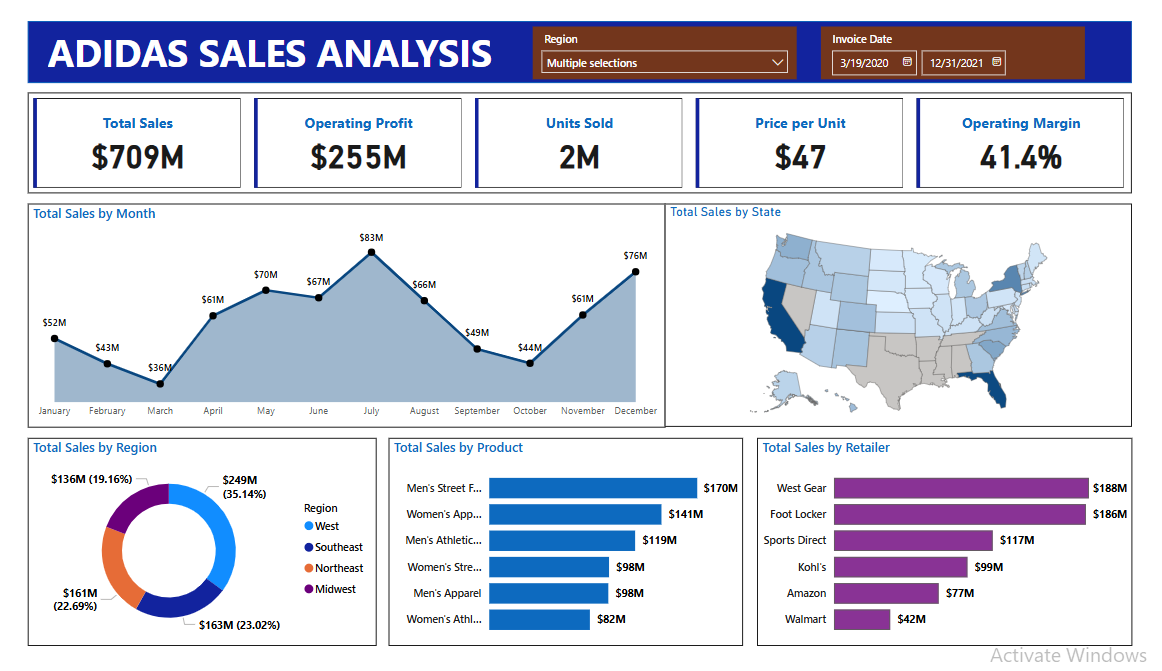

This screenshot's page, from the dashboard's own definition file:
{"tool":"powerbi","page":{"name":"Page 1","canvas":[1280,720],"ordinal":0},"visuals":[{"type":"shape","box":[10.3,0,1254.9,70.5],"z":0},{"type":"textbox","box":[27.9,0,539.3,70.5],"z":1000},{"type":"cardVisual","fields":{"Data":["Sum(Data Sales Adidas.Total Sales)","Sum(Data Sales Adidas.Operating Profit)","Sum(Data Sales Adidas.Units Sold)","Avg(Data Sales Adidas.Price per Unit)","Avg(Data Sales Adidas.Operating Margin)"]},"box":[10.3,80.8,1254.9,114.6],"z":2000},{"type":"areaChart","title":"Total Sales by Month","fields":{"Category":["Data Sales Adidas.Invoice Date.Variation.Date Hierarchy.Month"],"Y":["Sum(Data Sales Adidas.Total Sales)"]},"box":[10.3,207.2,724.4,254.2],"z":3000},{"type":"donutChart","title":" Total Sales by Region","fields":{"Category":["Data Sales Adidas.Region"],"Y":["Sum(Data Sales Adidas.Total Sales)"]},"box":[10.3,473.1,396.7,236.6],"z":4000},{"type":"barChart","title":" Total Sales by Product","fields":{"Category":["Data Sales Adidas.Product"],"Y":["Sum(Data Sales Adidas.Total Sales)"]},"box":[420.2,473.1,402.6,236.6],"z":5000},{"type":"barChart","title":" Total Sales by Retailer","fields":{"Y":["Sum(Data Sales Adidas.Total Sales)"],"Category":["Data Sales Adidas.Retailer"]},"box":[839,473.1,426.1,236.6],"z":6000},{"type":"shapeMap","title":"Total Sales by State","fields":{"Category":["Data Sales Adidas.State"],"Value":["Sum(Data Sales Adidas.Total Sales)"]},"box":[734,207,531,254],"z":7000},{"type":"slicer","fields":{"Values":["Data Sales Adidas.Region"]},"box":[584.3,5.7,300,60],"z":8000},{"type":"slicer","fields":{"Values":["Data Sales Adidas.Invoice Date"]},"box":[911.4,5.7,300,60],"z":9000}]}

Visuals, with their boxes in screenshot pixels (x1, y1, x2, y2):
shape: 25,15,1161,81
textbox: 41,15,542,81
cardVisual - Sum(Data Sales Adidas.Total Sales) x Sum(Data Sales Adidas.Operating Profit): 25,90,1161,196
"Total Sales by Month" areaChart: 25,207,697,443
" Total Sales by Region" donutChart: 25,454,393,670
" Total Sales by Product" barChart: 405,454,779,670
" Total Sales by Retailer" barChart: 794,454,1161,670
"Total Sales by State" shapeMap: 696,207,1161,443
slicer - Data Sales Adidas.Region: 557,20,836,76
slicer - Data Sales Adidas.Invoice Date: 861,20,1140,76
